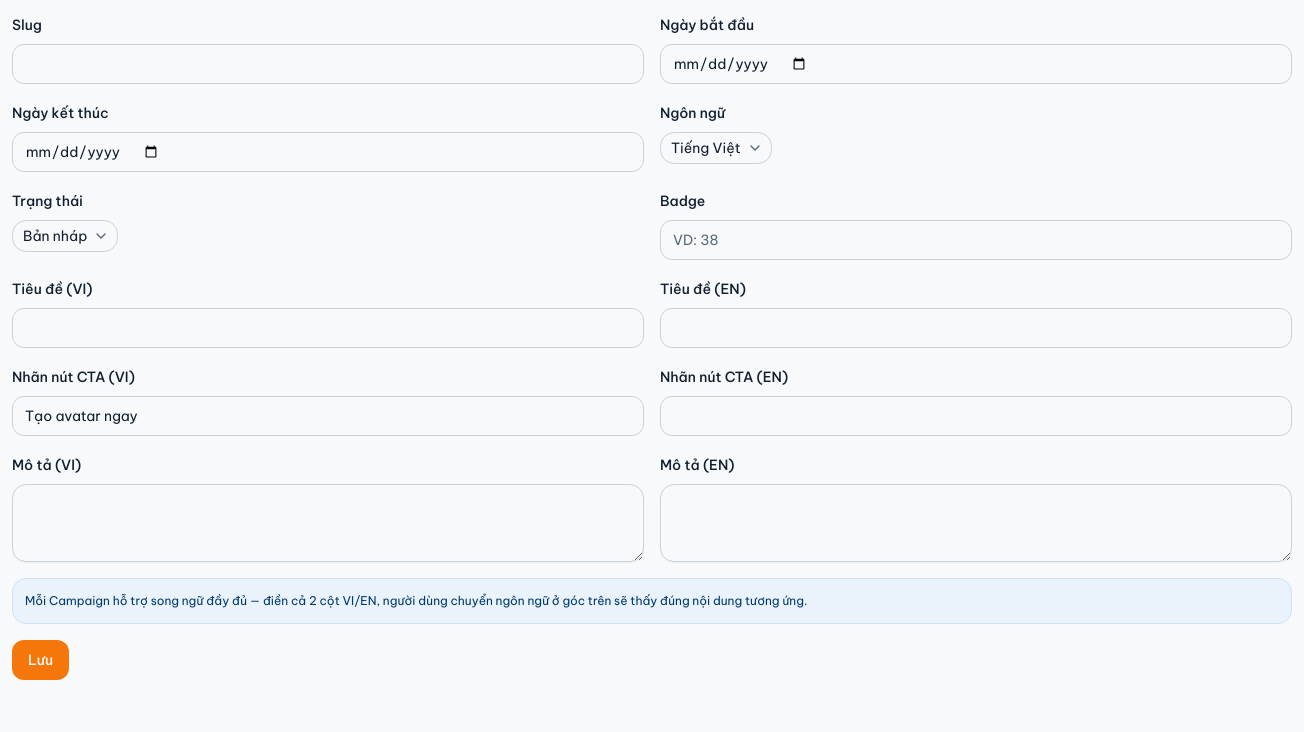
Test: CampaignForm › rejects a slug that is not lowercase kebab-case
The image size is (1304, 732).
Type "Tech Week 2026" into the field labelled "Slug" at coordinates (328, 64), box [12,44,644,84]
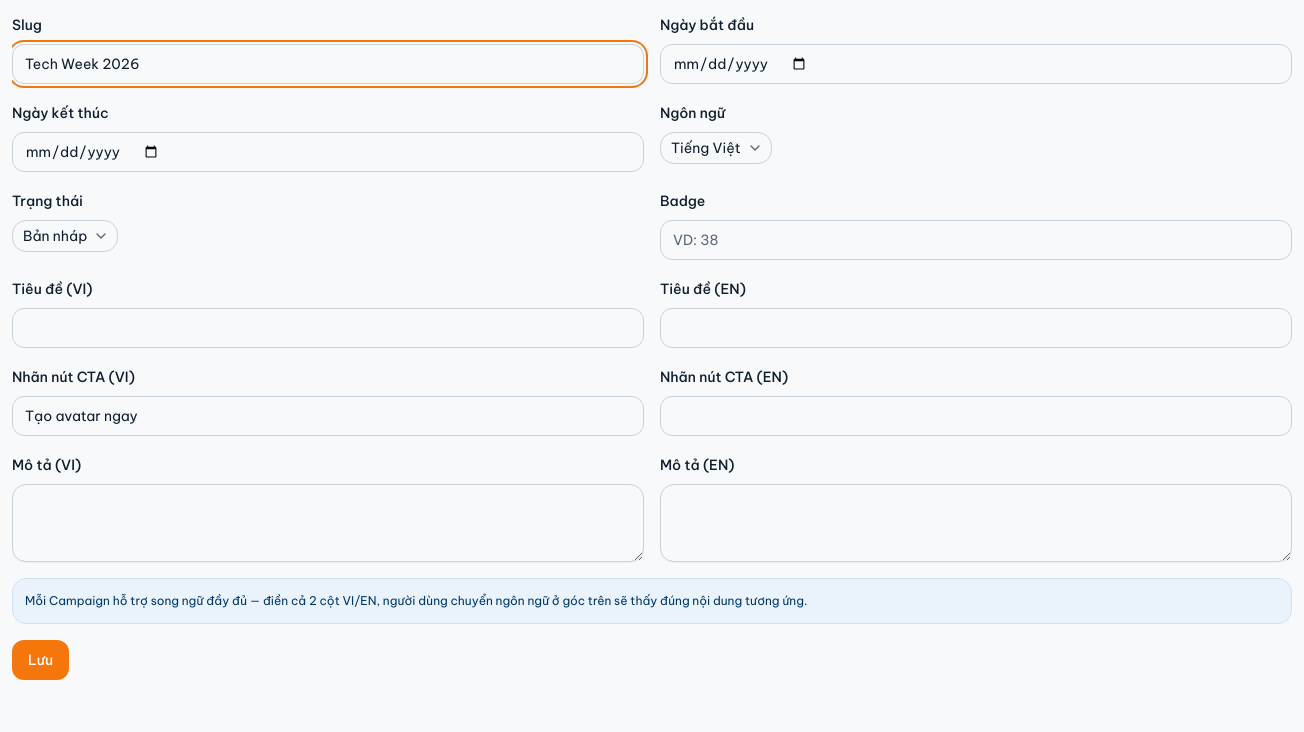
Type "T" into the field labelled "Tiêu đề (VI)" at coordinates (328, 328), box [12,308,644,348]
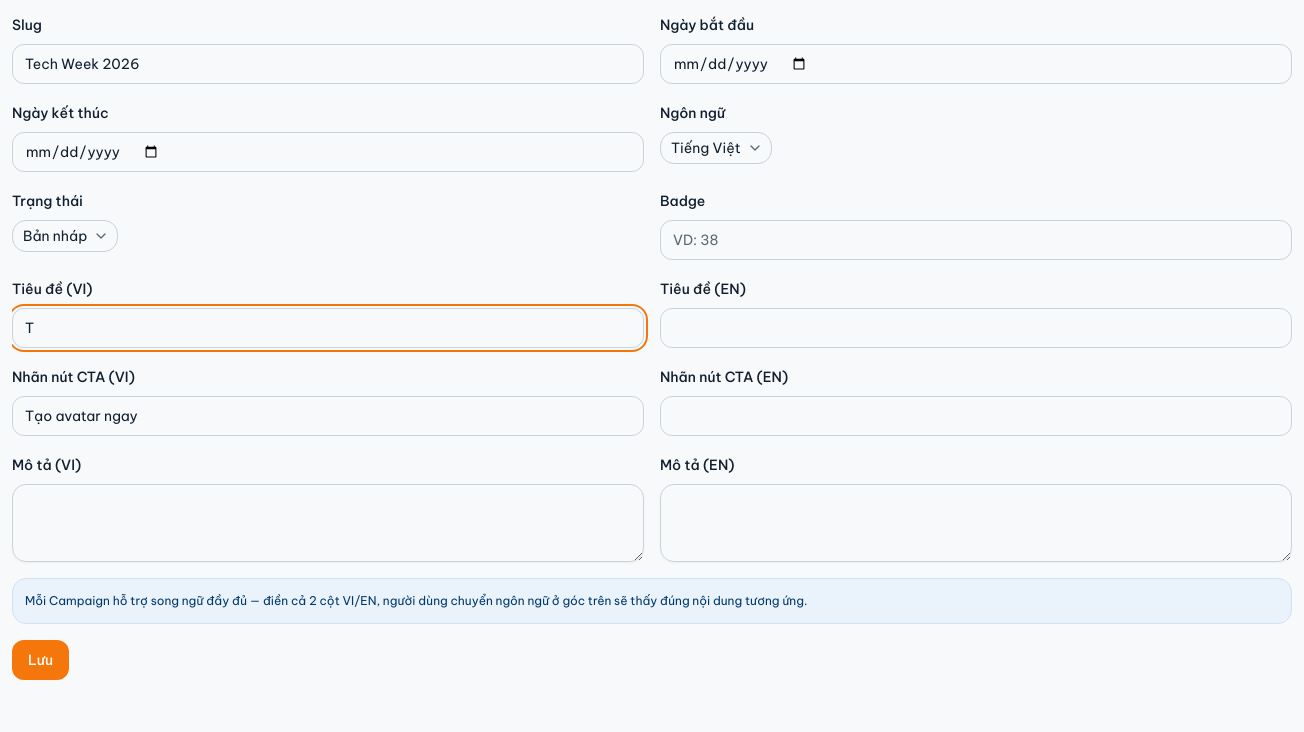
Type "2026-08-20" into the date field labelled "Ngày bắt đầu" at coordinates (976, 64), box [660,44,1292,84]
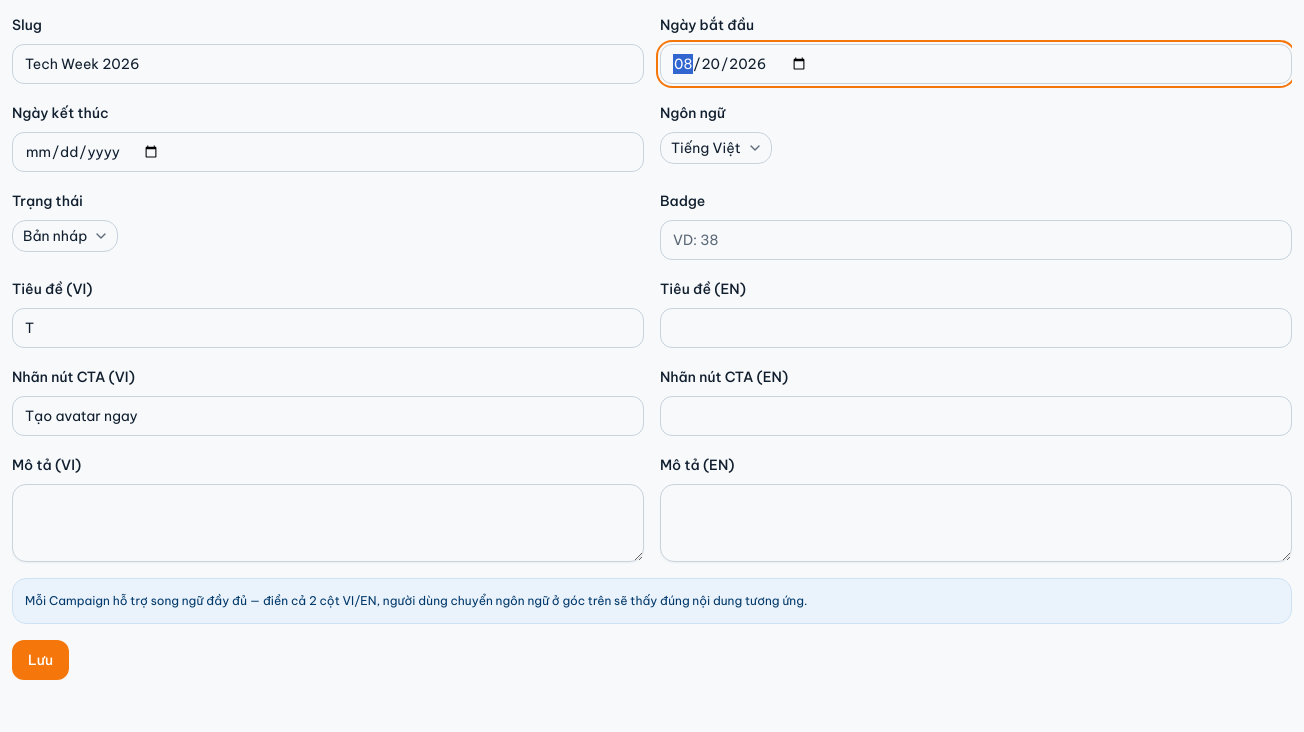
Type "2026-08-28" into the date field labelled "Ngày kết thúc" at coordinates (328, 152), box [12,132,644,172]
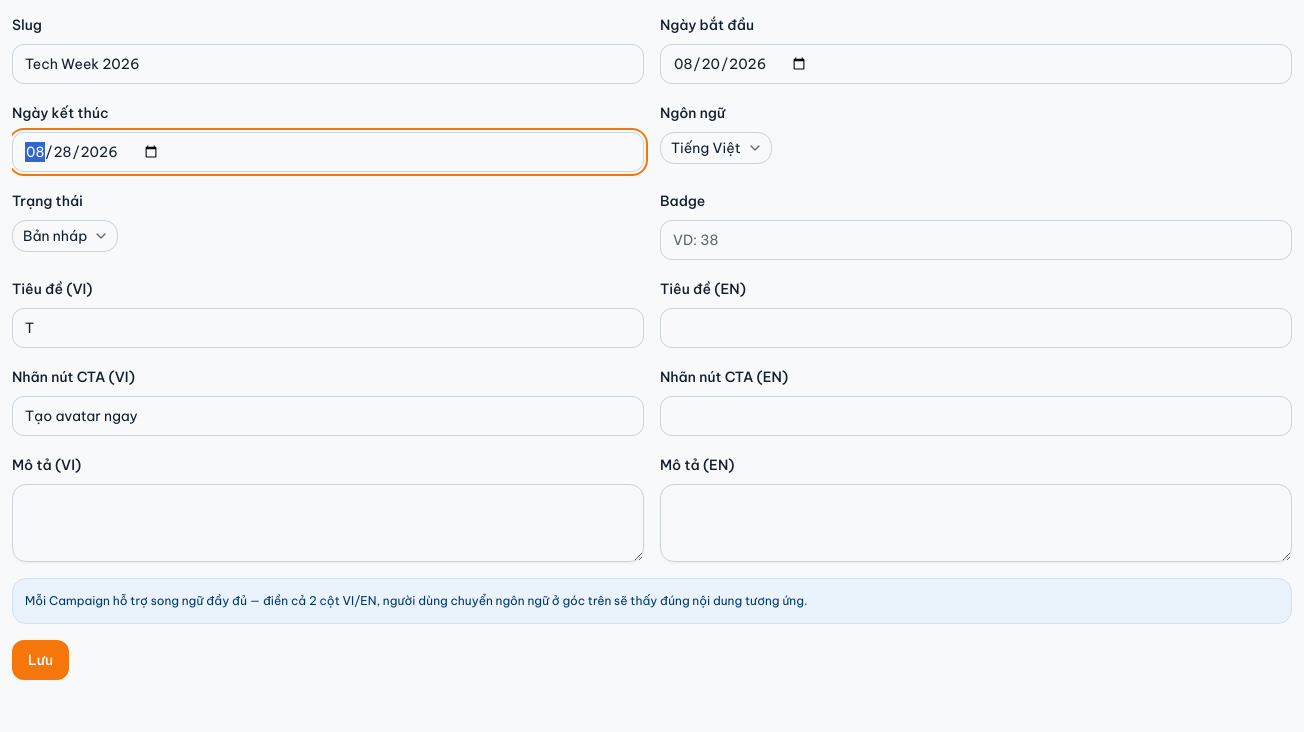
Click the button "Lưu" at coordinates (40, 660), box [12,640,69,680]
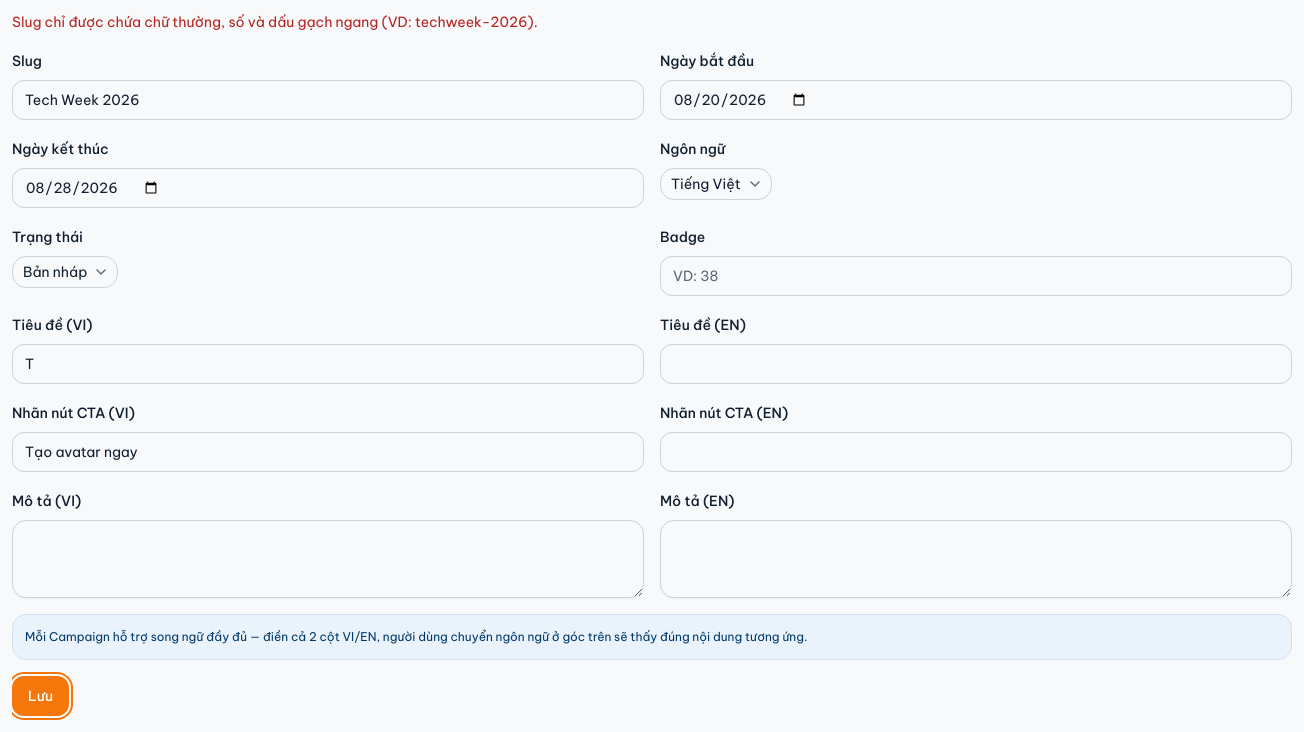
Now the message shows "chữ thường, số và dấu gạch ngang", box [12,13,538,31]
